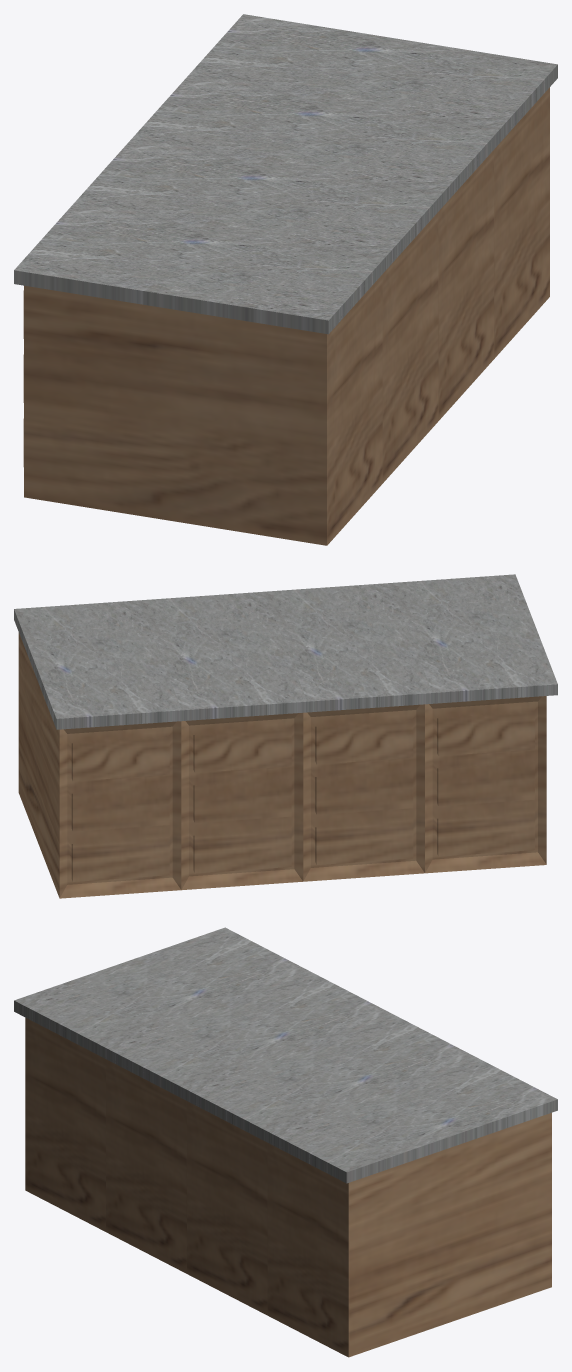
File: Köksö.fbx
The picture shows the model from 3 angles, top to bottom: view 1: azimuth 30°, elevation 25°; view 2: azimuth 150°, elevation 25°; view 3: azimuth 270°, elevation 25°; orthographic projection. The views are drawn at different scales.
Visible parts, largest first — view 1: Cube.020; view 2: Cube.020; view 3: Cube.020.
Part boxes in pixels (bbox=[...]): Cube.020: bbox=[14, 14, 557, 545]; Cube.020: bbox=[14, 574, 557, 898]; Cube.020: bbox=[14, 927, 557, 1357].
Bounding box in the file's own units: 4741 × 1695 × 4449.
2 materials, 2 textured.
